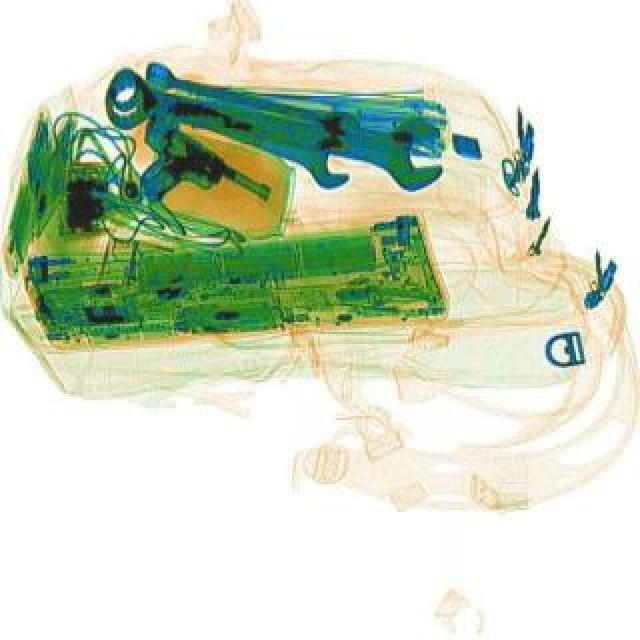gun: (110, 108, 274, 244)
scissors: (96, 54, 454, 196), (98, 62, 360, 194)
